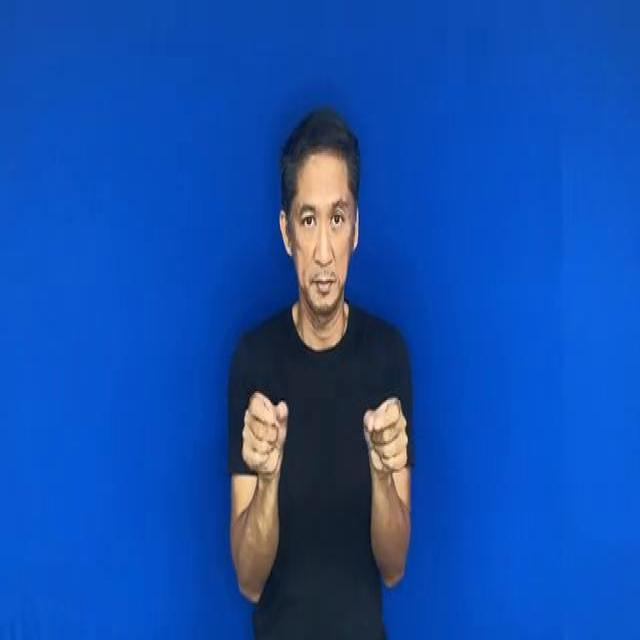crab: (355, 384, 415, 490), (241, 388, 303, 488)
